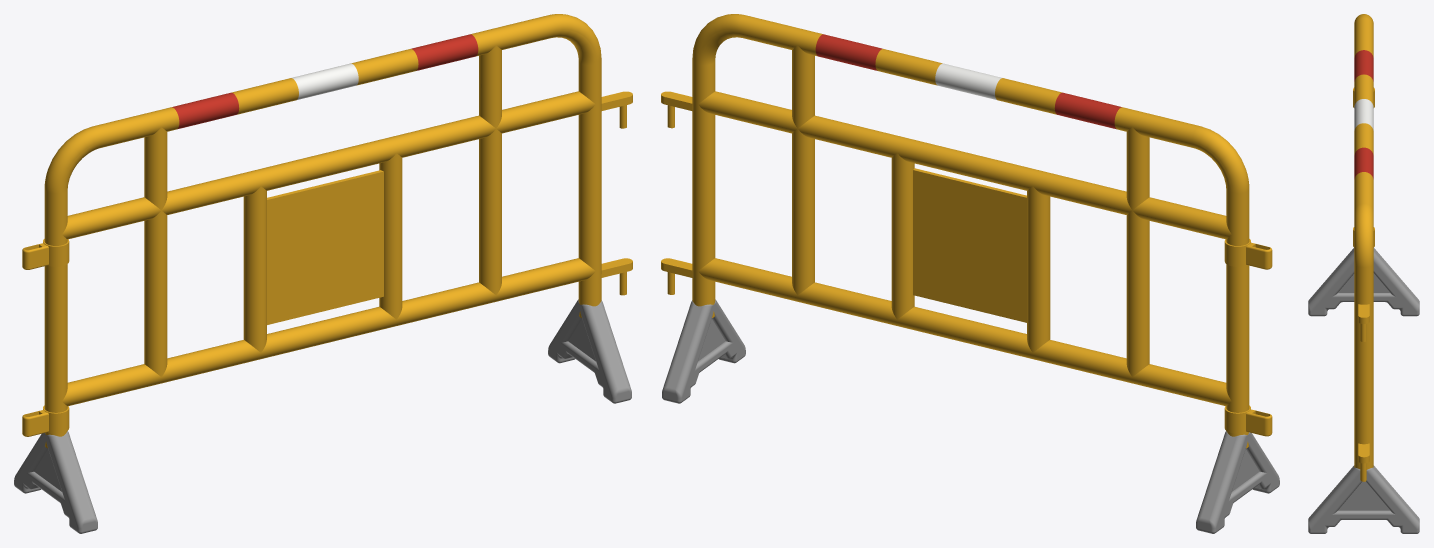
The model's file is yellow road block v4.fbx.
3 renders of one model, left to right at view 1: azimuth 30°, elevation 25°; view 2: azimuth 150°, elevation 25°; view 3: azimuth 270°, elevation 25°, orthographic. The views are drawn at different scales.
Parts seen in each view (by area): view 1: Body36, Body5, Body13, Body11, Body46, Body45, Body47, Body48, Body49, Body18, Body31; view 2: Body36, Body5, Body13, Body11, Body46, Body45, Body47, Body48, Body49, Body18, Body31; view 3: Body36, Body13, Body11, Body46, Body48, Body47, Body49, Body45, Body34, Body14.
Part boxes in pixels (x1,y1,x2,y2): Body36: [44, 14, 601, 448]; Body5: [267, 170, 383, 324]; Body13: [548, 299, 631, 403]; Body11: [14, 431, 97, 533]; Body46: [351, 49, 418, 85]; Body45: [411, 34, 478, 70]; Body47: [292, 63, 358, 99]; Body48: [232, 78, 298, 114]; Body49: [172, 92, 239, 129]; Body18: [22, 405, 69, 436]; Body31: [22, 239, 69, 269]; Body36: [692, 14, 1249, 448]; Body5: [913, 168, 1026, 322]; Body13: [662, 299, 745, 403]; Body11: [1196, 431, 1279, 533]; Body46: [875, 49, 942, 85]; Body45: [815, 34, 882, 70]; Body47: [935, 63, 1001, 99]; Body48: [995, 78, 1061, 114]; Body49: [1054, 92, 1121, 129]; Body18: [1224, 405, 1272, 436]; Body31: [1224, 239, 1272, 269]; Body36: [1354, 14, 1373, 481]; Body13: [1308, 465, 1419, 533]; Body11: [1308, 248, 1419, 316]; Body46: [1354, 123, 1373, 154]; Body48: [1354, 74, 1373, 105]; Body47: [1354, 99, 1373, 130]; Body49: [1354, 50, 1373, 81]; Body45: [1354, 147, 1373, 179]; Body34: [1358, 304, 1369, 341]; Body14: [1358, 443, 1369, 481].
Size of the model in its own units: 153 by 89.25 by 29.
